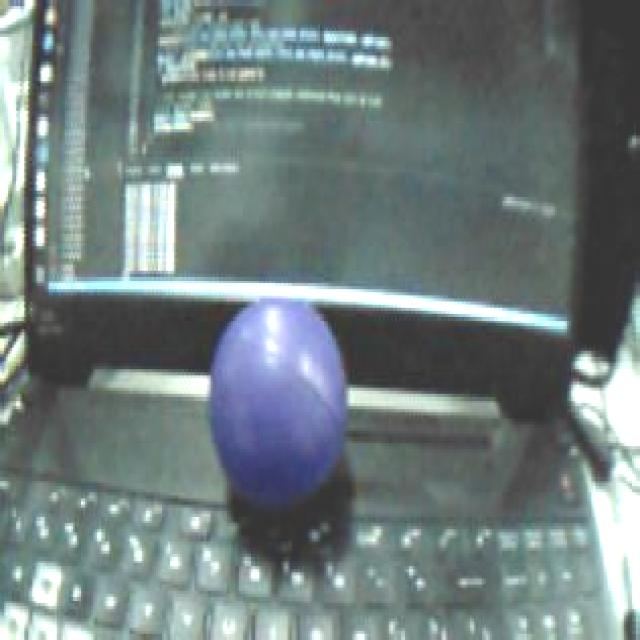BallPurple: (210, 295, 348, 504)
